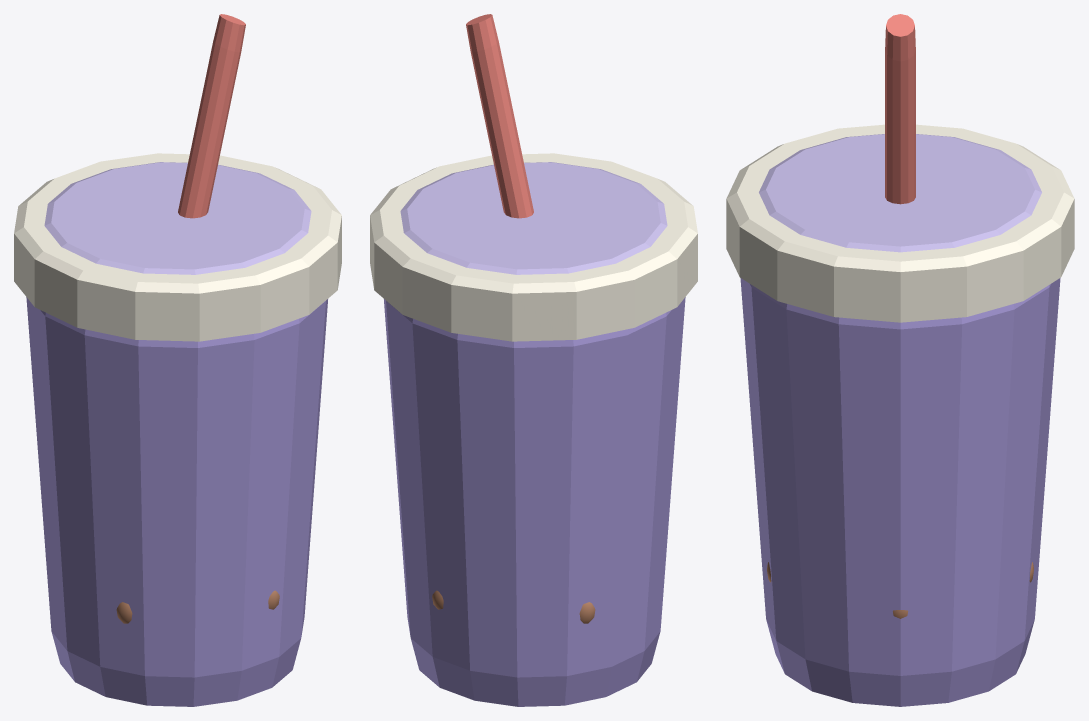
Rendered from item_cup.glb.
3 views of the same model, side by side, from view 1: azimuth 30°, elevation 25°; view 2: azimuth 150°, elevation 25°; view 3: azimuth 270°, elevation 25° (orthographic). The views are drawn at different scales.
Parts seen in each view (by area): view 1: cup, lid, model, straw; view 2: cup, lid, model, straw; view 3: cup, lid, model, straw.
Boxes of the visible parts, x1,y1,x2,y2 form: cup: (26, 297, 327, 706); lid: (14, 153, 341, 341); model: (44, 162, 311, 623); straw: (178, 14, 245, 218); cup: (384, 297, 685, 706); lid: (370, 153, 697, 341); model: (400, 162, 667, 623); straw: (466, 14, 533, 218); cup: (740, 278, 1060, 706); lid: (726, 124, 1074, 322); model: (759, 134, 1041, 618); straw: (885, 14, 915, 204).
Size of the model in its own units: 0.2 by 0.42 by 0.2.
